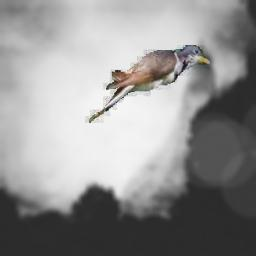Cuckoo: (85, 45, 210, 126)
